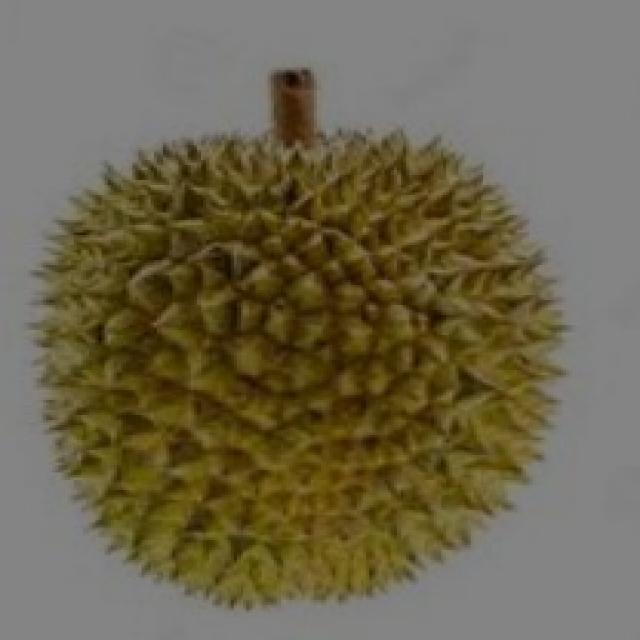fruit: (237, 247, 631, 640), (0, 265, 363, 640)
